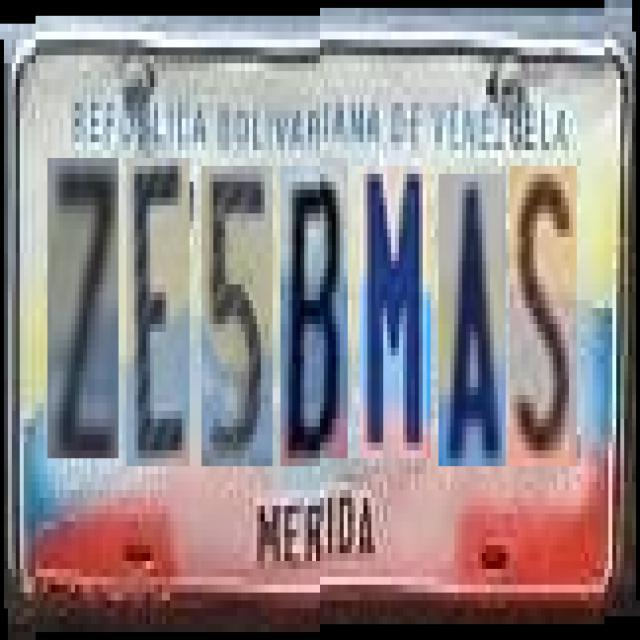5: (202, 158, 272, 458)
A: (438, 174, 506, 466)
B: (280, 158, 348, 458)
E: (126, 150, 190, 458)
M: (360, 165, 430, 458)
S: (509, 166, 576, 466)
Z: (48, 150, 119, 450)
